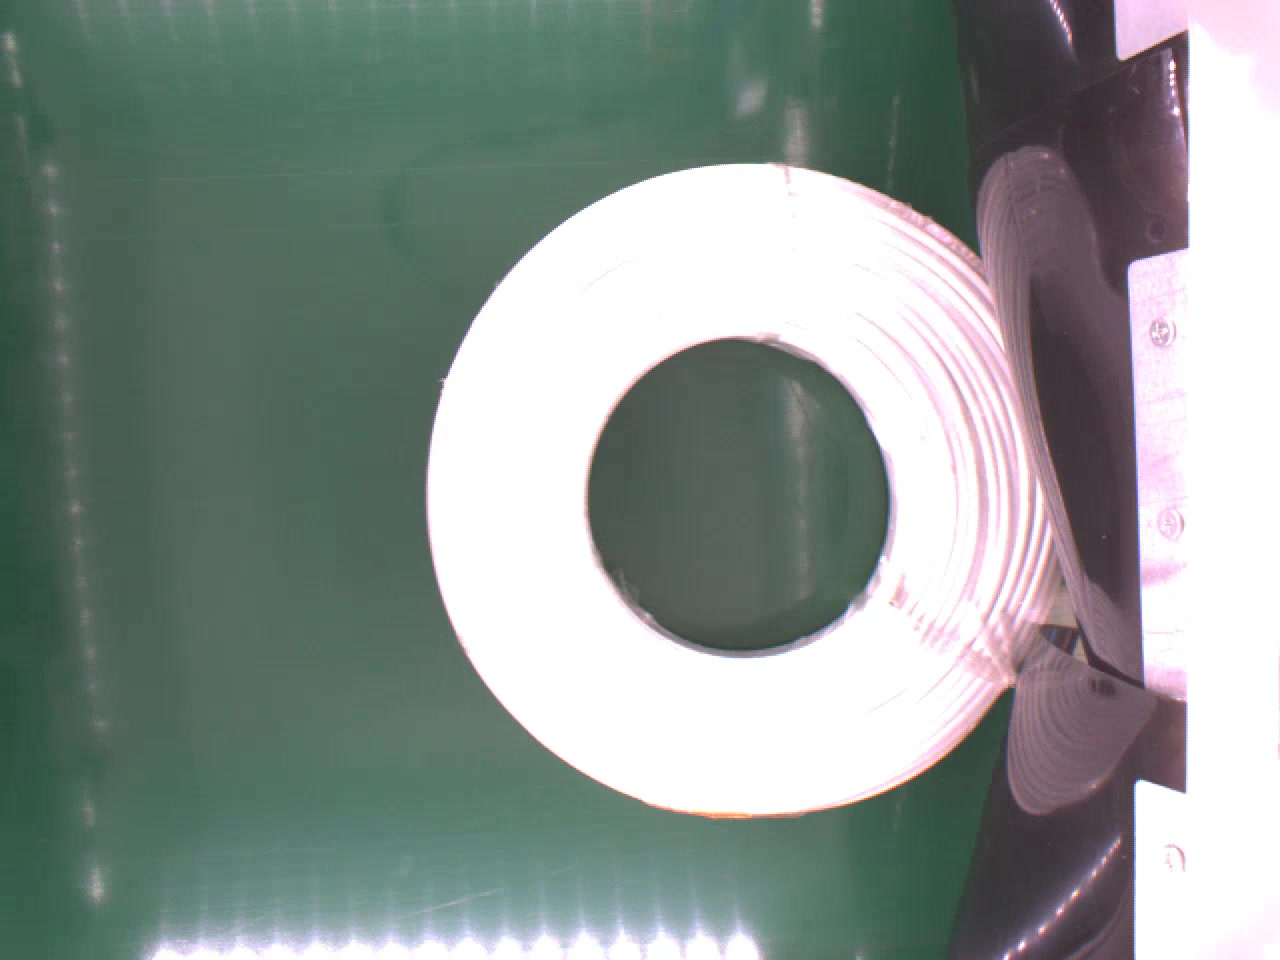white: (419, 162, 1066, 823)
